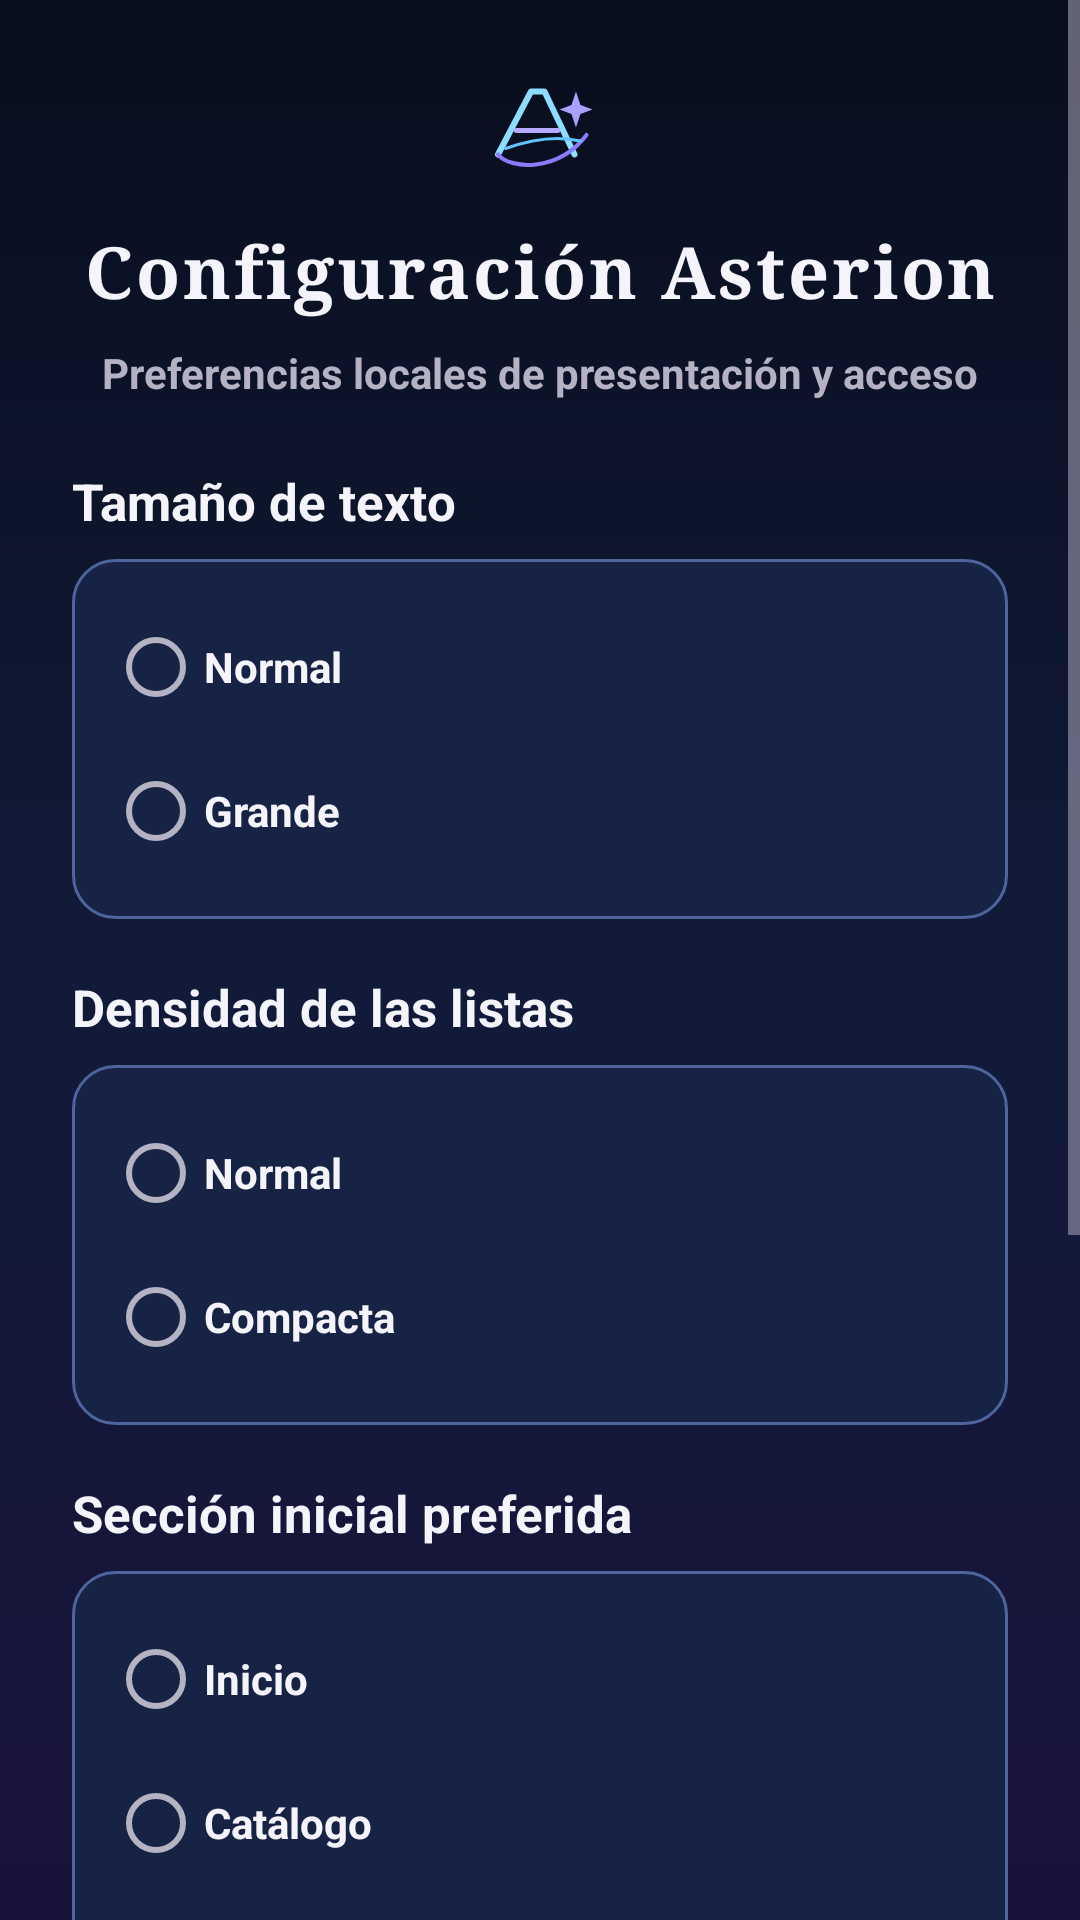

Where to tap for icons on this 1080×1920 app screen, as point (x, y):
asterion crest: point (544, 127)
